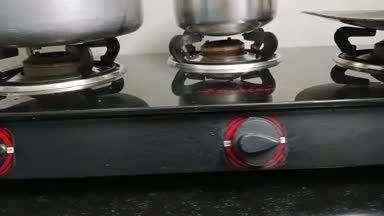flame_gas_off: (173, 23, 302, 171)
